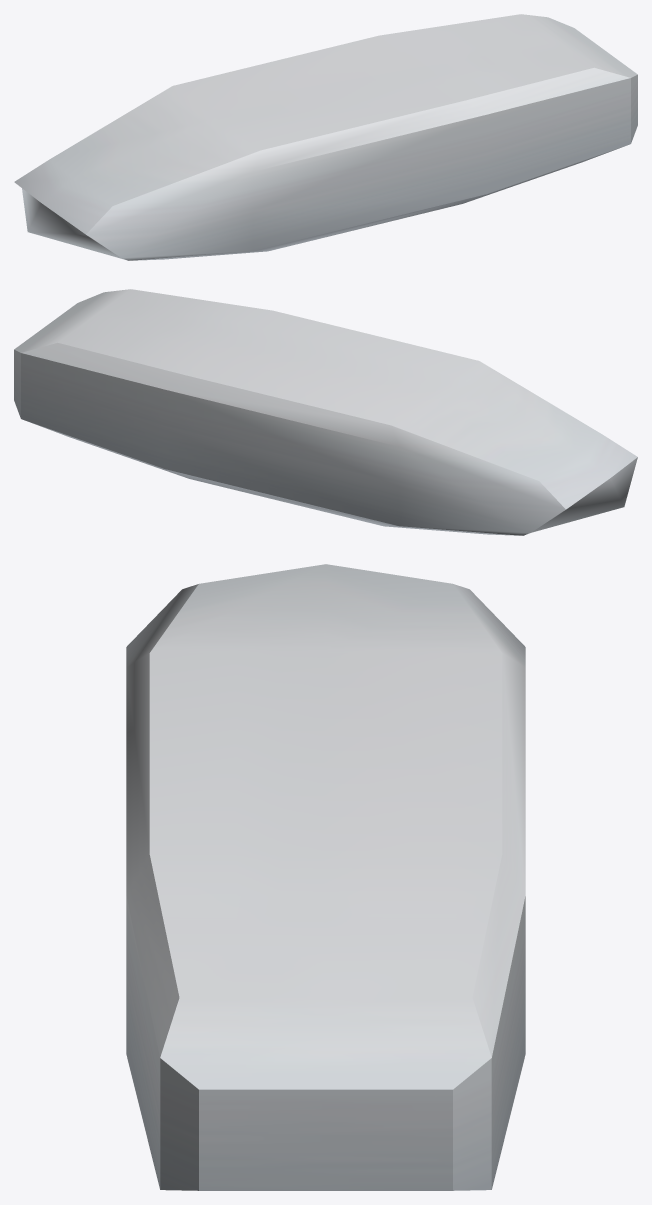
File: StoneSlab3.fbx
The picture shows the model from 3 angles, top to bottom: view 1: azimuth 30°, elevation 25°; view 2: azimuth 150°, elevation 25°; view 3: azimuth 270°, elevation 25°; orthographic projection. The views are drawn at different scales.
Parts seen in each view (by area): view 1: pCube15; view 2: pCube15; view 3: pCube15.
Boxes of the visible parts, <box> form: pCube15: <box>14,14,637,260</box>; pCube15: <box>14,289,637,535</box>; pCube15: <box>126,564,525,1190</box>.
Size of the model in its own units: 7.85 by 1.36 by 2.34.
